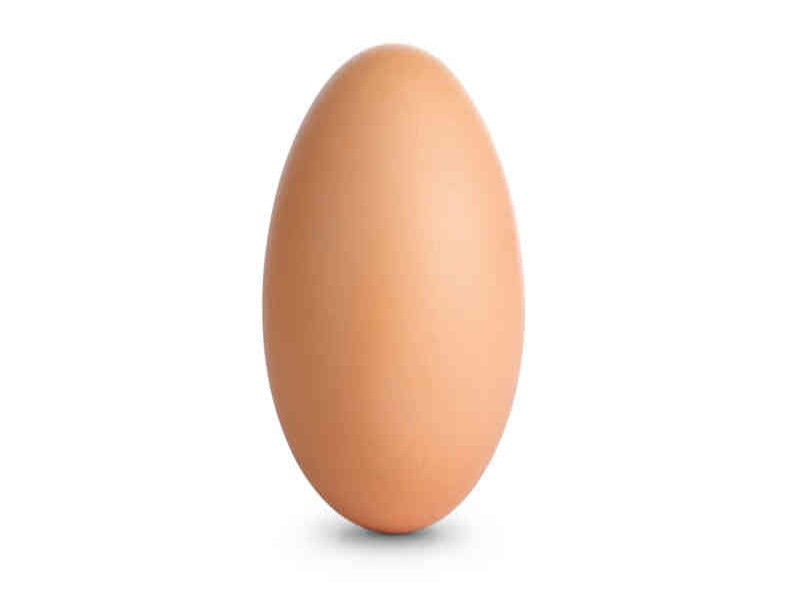Huevo: (262, 42, 527, 534)
